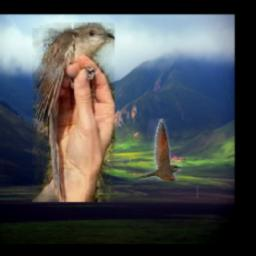Cuckoo: (33, 22, 116, 202), (135, 119, 182, 181)
